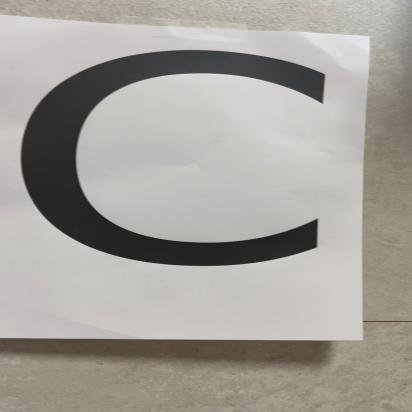seat: (6, 25, 373, 339)
